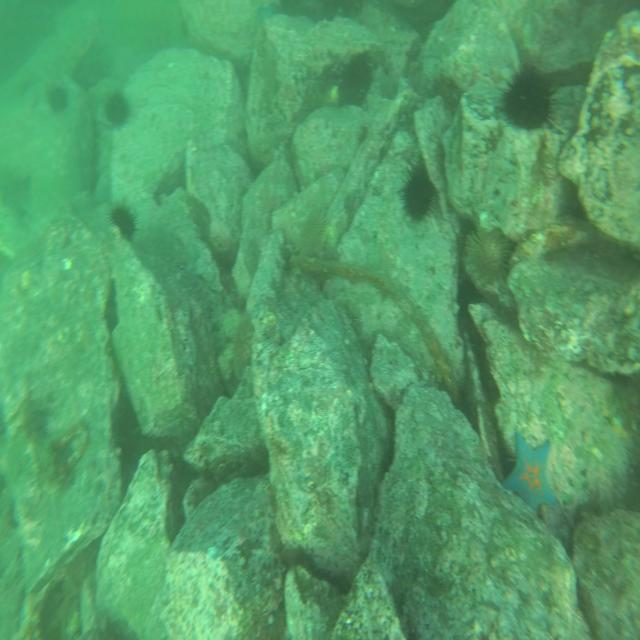echinus: (505, 70, 553, 132), (467, 225, 512, 285), (403, 169, 434, 221), (340, 52, 370, 102), (105, 90, 129, 132), (112, 204, 136, 242), (48, 84, 70, 112)
starfish: (508, 426, 558, 518)
